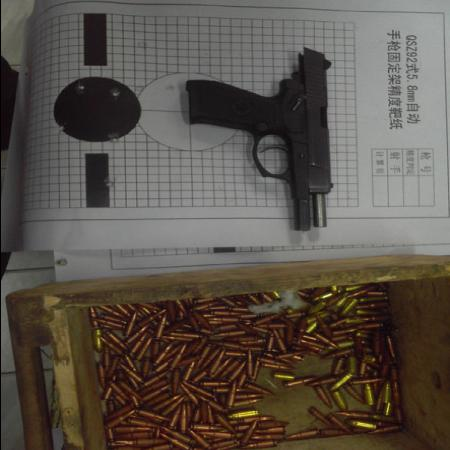Pistol: (185, 45, 335, 231)
